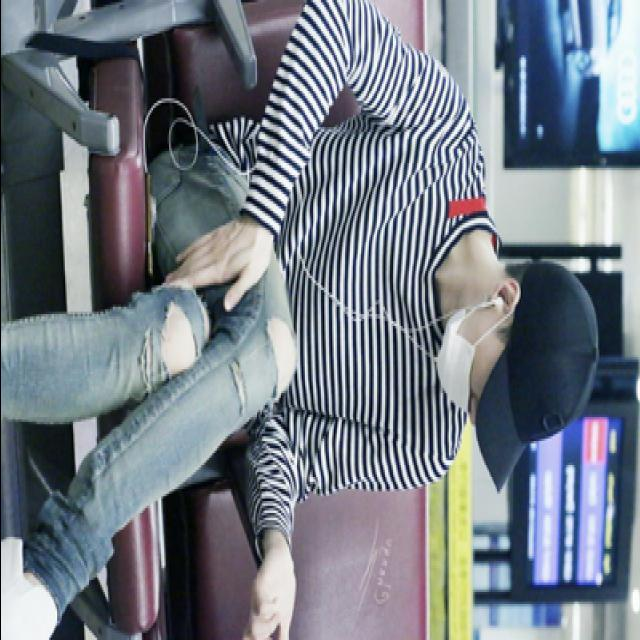mask_weared_incorrect: (432, 312, 507, 426)
